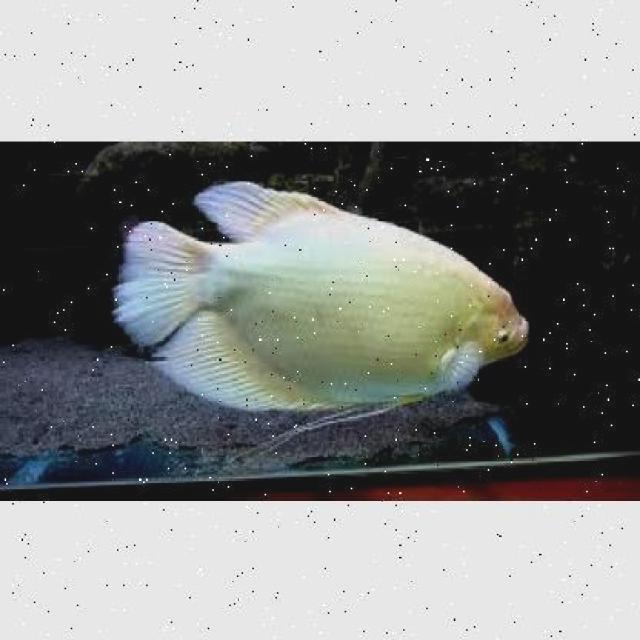gurame: (120, 181, 532, 410)
